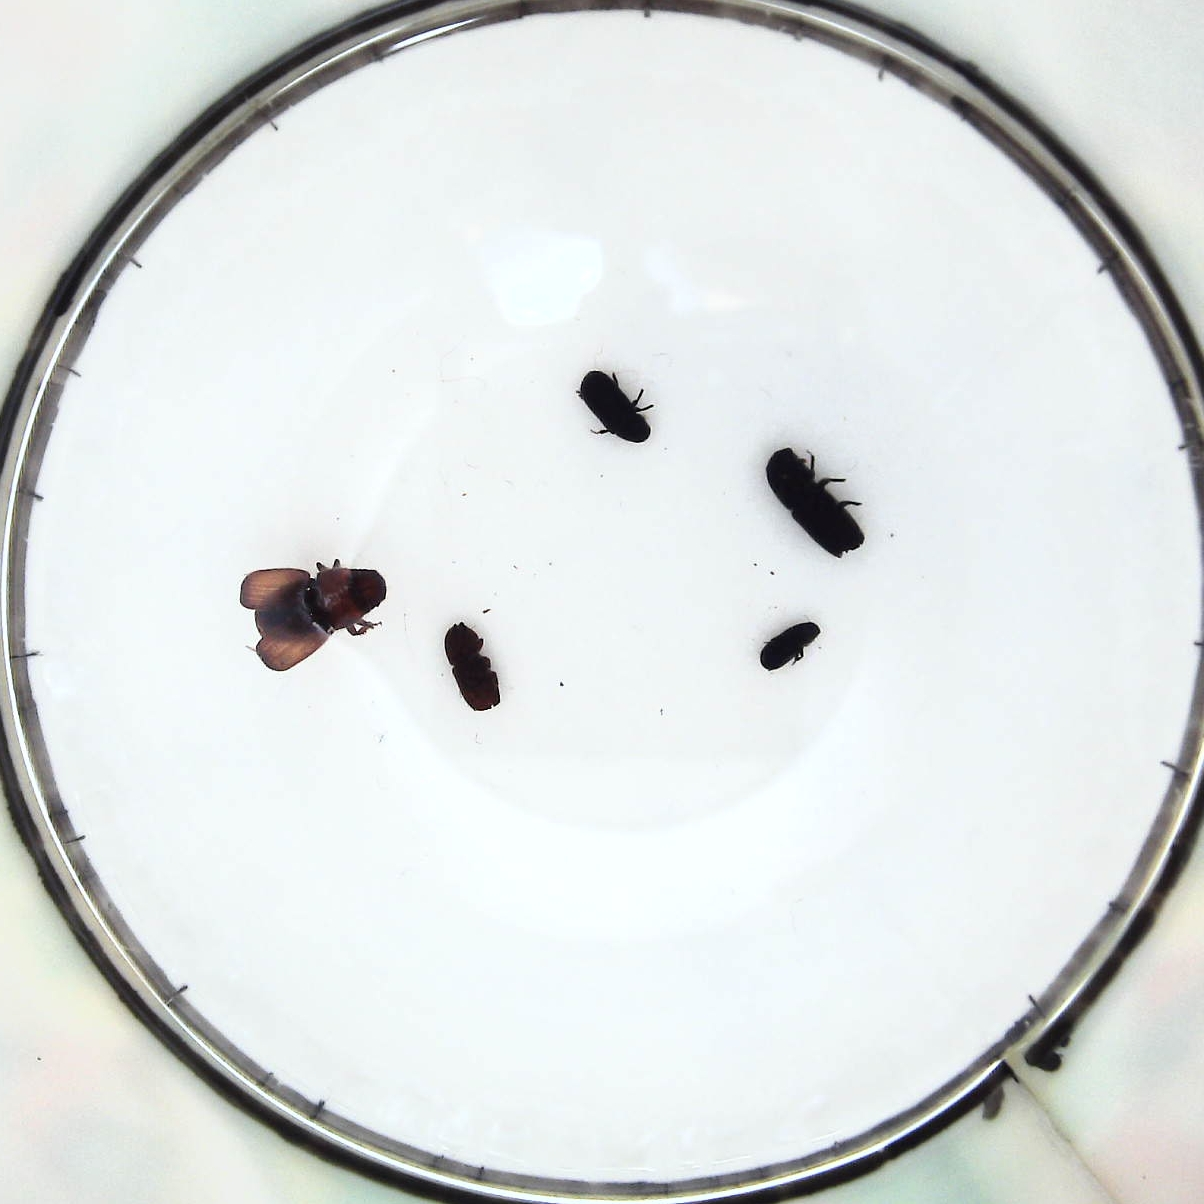Boerner: (766, 448, 868, 555)
Leconte: (239, 562, 385, 662)
Linnaeus: (437, 619, 503, 718)
armandi: (578, 372, 651, 445)
coleoptera: (759, 619, 824, 671)
